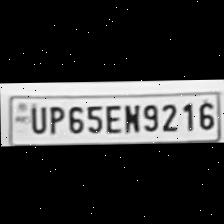1: (177, 98, 195, 129)
2: (158, 99, 178, 131)
5: (84, 100, 103, 132)
6: (193, 98, 215, 130), (64, 101, 84, 132)
9: (139, 99, 159, 130)
E: (102, 100, 120, 132)
N: (119, 100, 139, 132)
P: (44, 102, 64, 132)
U: (24, 101, 46, 132)
